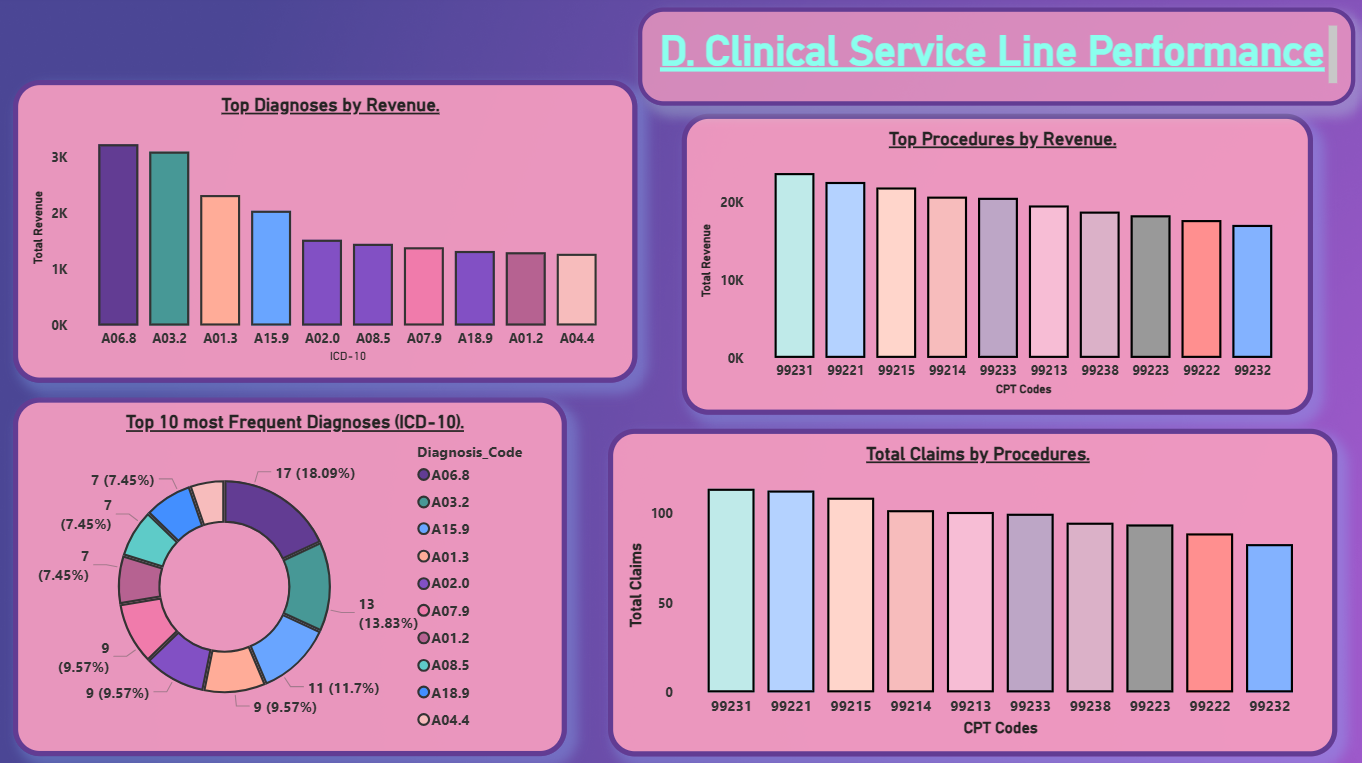

Layout of this report page (visuals, bound fields, positions):
{"tool":"powerbi","page":{"name":"D. Clinical Service","canvas":[1280,720],"ordinal":3},"visuals":[{"type":"clusteredColumnChart","title":"Top Procedures by Revenue.","fields":{"Category":["claims_data_cleaned.Procedure_Code"],"Y":["Sum(claims_data_cleaned.Paid Amount)"]},"box":[640.6,110.4,587.4,280.4],"z":0},{"type":"donutChart","title":"Top 10 most Frequent Diagnoses (ICD-10).","fields":{"Category":["claims_data_cleaned.Diagnosis_Code"],"Y":["CountNonNull(claims_data_cleaned.Claim ID)"]},"box":[19,374.2,515,333.6],"z":1001},{"type":"clusteredColumnChart","title":"Total Claims by Procedures.","fields":{"Category":["claims_data_cleaned.Procedure_Code"],"Y":["Count(claims_data_cleaned.Claim ID)"]},"box":[572.1,403.4,678.7,304.5],"z":1003},{"type":"clusteredColumnChart","title":"Top Diagnoses by Revenue.","fields":{"Category":["claims_data_cleaned.Diagnosis_Code"],"Y":["Sum(claims_data_cleaned.Paid Amount)"]},"box":[19,78.7,581,281.6],"z":1004},{"type":"textbox","box":[600,11.4,667.3,91.3],"z":1005}]}

Visuals, with their boxes in screenshot pixels (x1, y1, x2, y2), scaled from the page's 1280x720 canvas onto the 1362x763 screenshot:
"Top Procedures by Revenue." clusteredColumnChart: <region>682, 117, 1307, 414</region>
"Top 10 most Frequent Diagnoses (ICD-10)." donutChart: <region>20, 397, 568, 750</region>
"Total Claims by Procedures." clusteredColumnChart: <region>609, 427, 1331, 750</region>
"Top Diagnoses by Revenue." clusteredColumnChart: <region>20, 83, 638, 382</region>
textbox: <region>638, 12, 1348, 109</region>
